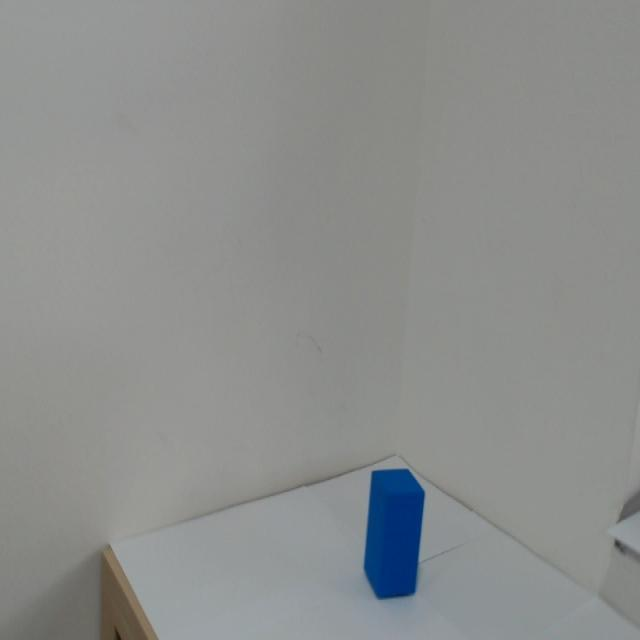cube: (356, 435, 440, 615)
